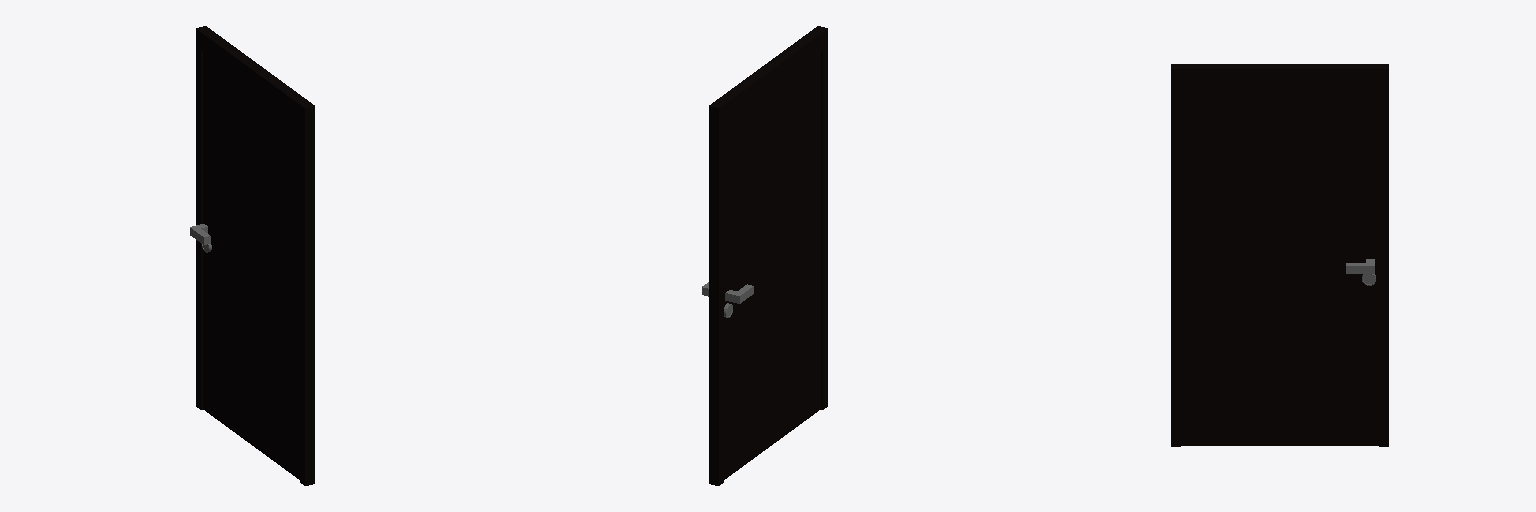
Rendered from Door.obj.
The picture shows the model from 3 angles: view 1: azimuth 30°, elevation 25°; view 2: azimuth 150°, elevation 25°; view 3: azimuth 270°, elevation 25°; orthographic projection.
Parts seen in each view (by area): view 1: Cube.002_Cube.003, Cube.309_Cube.337; view 2: Cube.002_Cube.003, Cube.309_Cube.337; view 3: Cube.002_Cube.003, Cube.309_Cube.337.
Boxes of the visible parts, <box> form: Cube.002_Cube.003: <box>190,53,299,479</box>; Cube.309_Cube.337: <box>196,26,314,485</box>; Cube.002_Cube.003: <box>702,53,820,479</box>; Cube.309_Cube.337: <box>709,26,827,485</box>; Cube.002_Cube.003: <box>1181,88,1378,445</box>; Cube.309_Cube.337: <box>1171,64,1388,446</box>.
Bounding box in the file's own units: 0.2215 × 2.1 × 1.1.